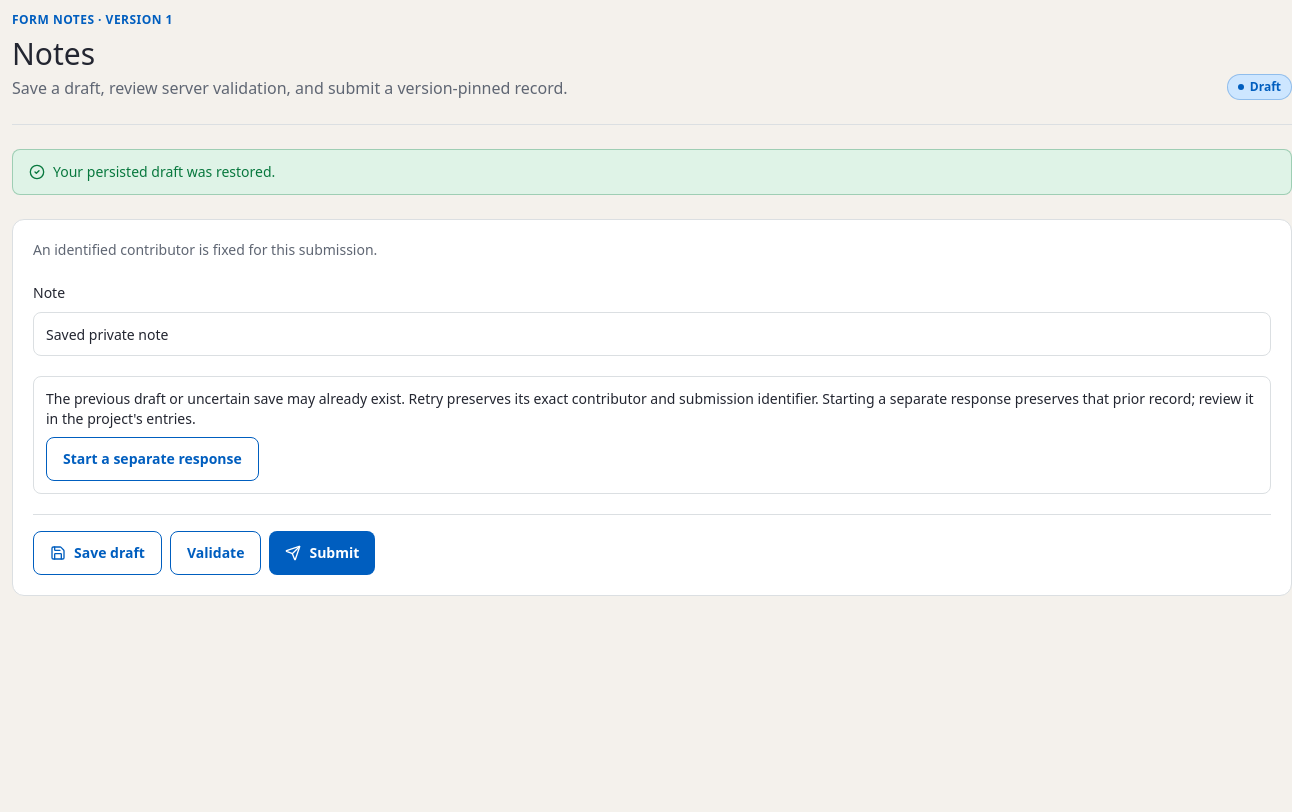
direct entry scoped retry and continuation ownership › resets the contributor, answers and request identity when a separate response starts
This screenshot has width=1292, height=812.
Expected: the field showing "Saved private note" is shown, [33, 312, 1271, 356]
Click the button "Validate" at coordinates (216, 553), box [170, 531, 262, 575]
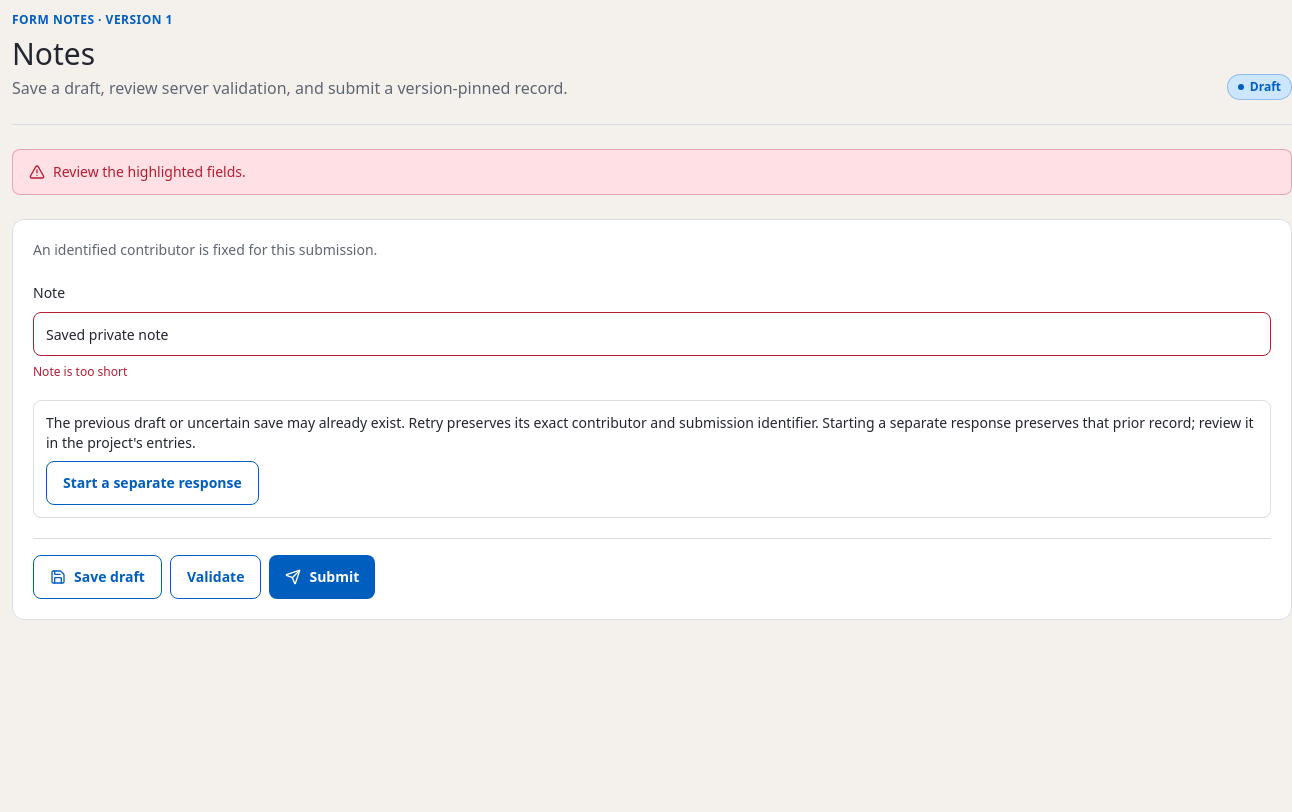
Expected: the list item "Note is too short" is shown, [33, 363, 127, 380]
Click the button "Start a separate response" at coordinates (152, 483), box [46, 461, 259, 505]
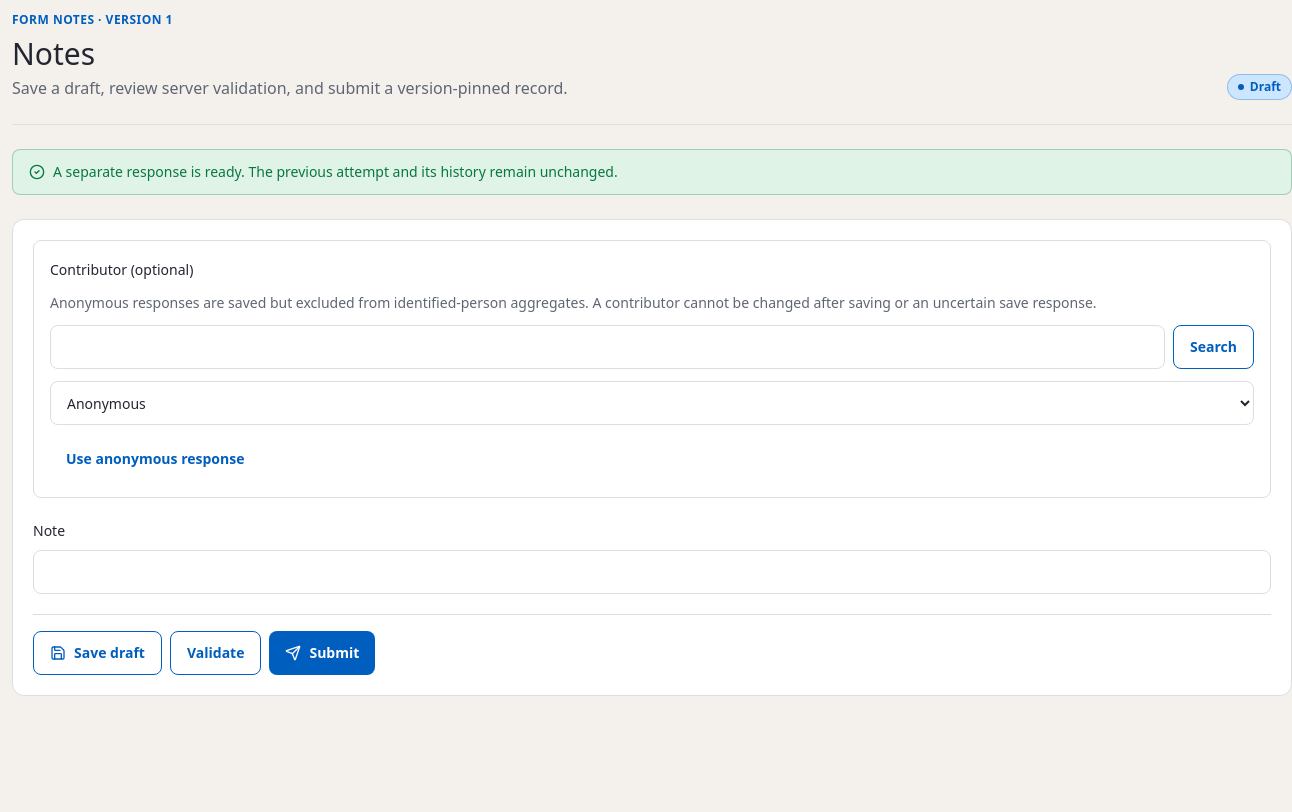
Expected: the text "A separate response is ready" is shown, [53, 162, 618, 181]
Expected: the dropdown labelled "Contributor (optional)" shows "Anonymous", [50, 381, 1254, 425]
Expected: the field labelled "Note" is empty, [33, 550, 1271, 594]
Click the button "Save draft" at coordinates (98, 653), box [33, 631, 162, 675]
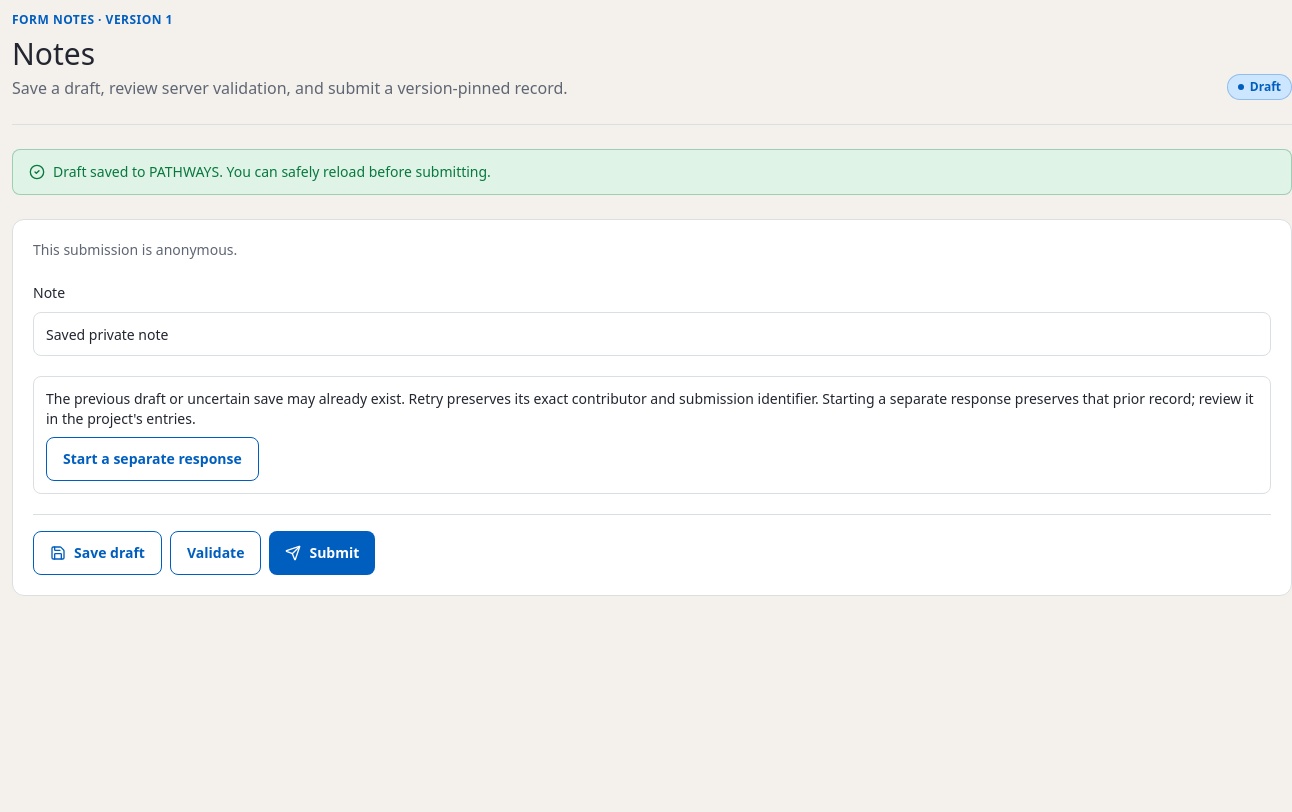
Expected: the text "Draft saved to PATHWAYS" is shown, [53, 162, 491, 181]
